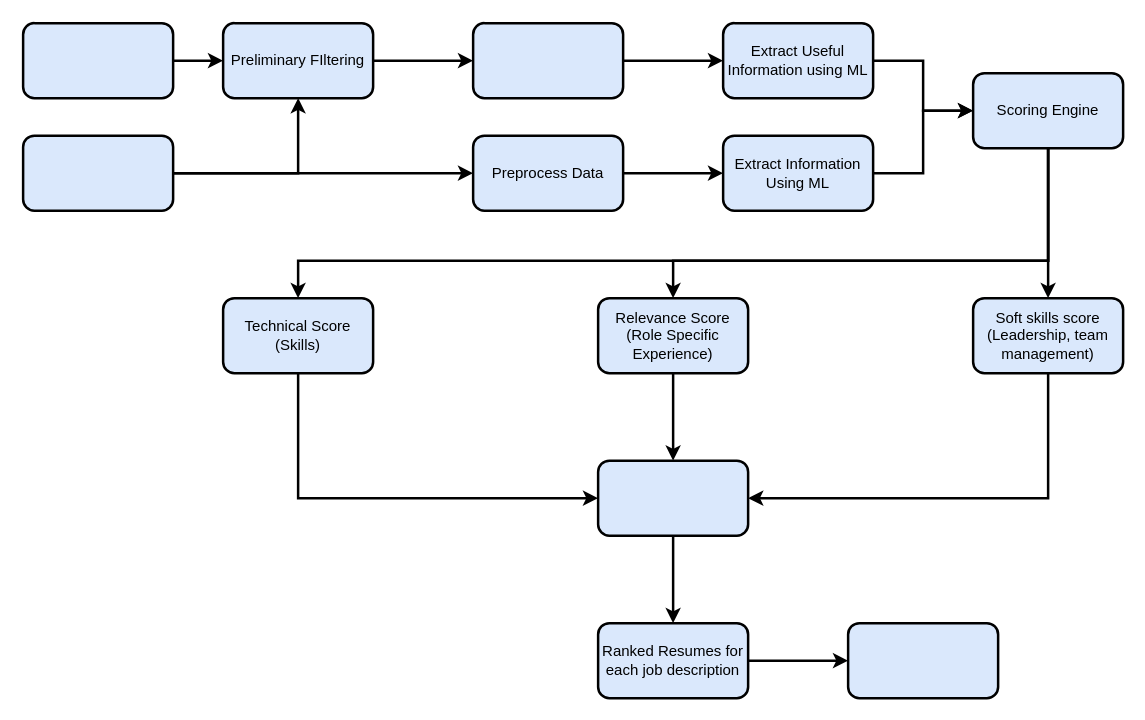
The diagram is 1145 pixels wide and 720 high, and some of its shapes have lost their labels. Each missing label, with the centre of its shape:
Job Candidate Data from SuccessFactors: the point at 97,60
Job Description: the point at 97,172
Overall Score: the point at 672,497
Preprocessing data: the point at 547,60
Return Best Matches (Threshold / top N): the point at 922,660
